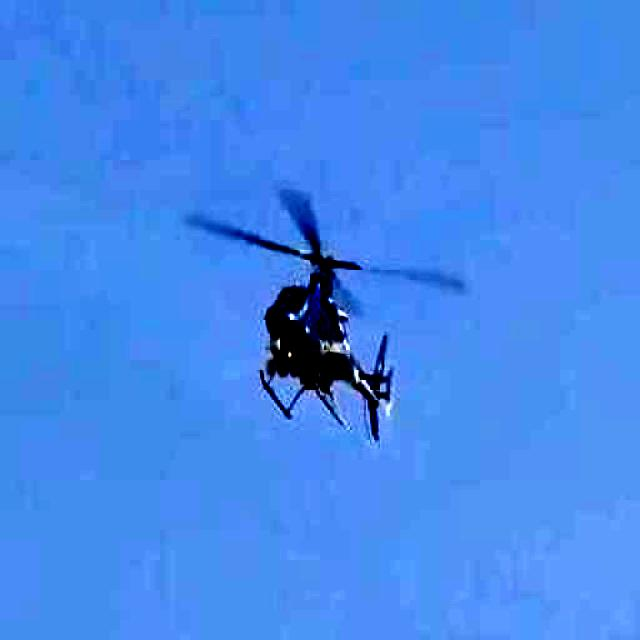drone: (142, 171, 484, 458)
